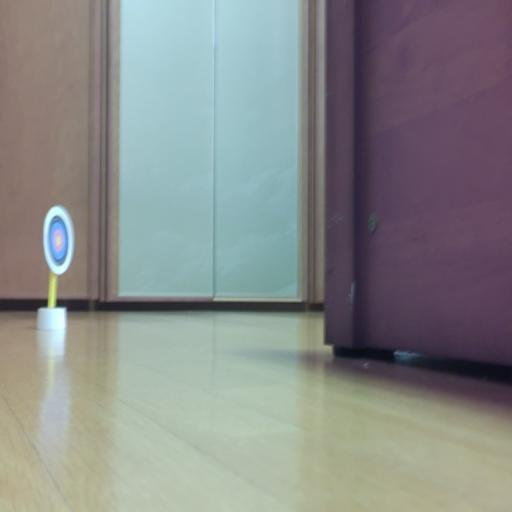target: (43, 206, 74, 274)
